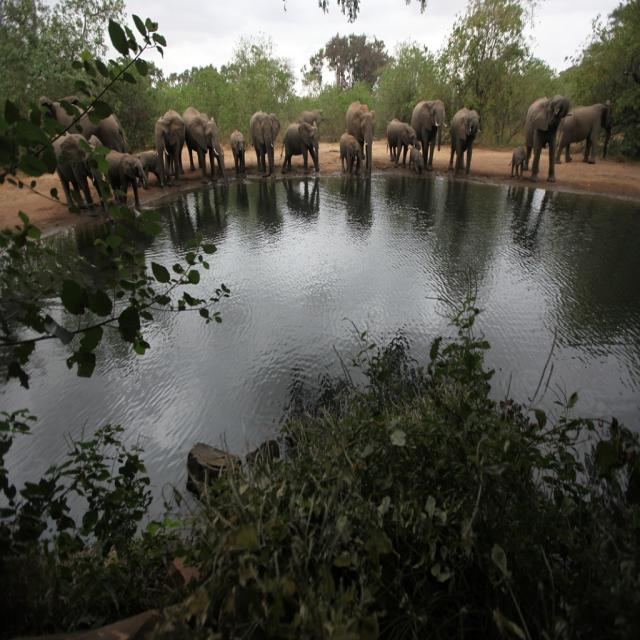elephant: (31, 80, 123, 154), (557, 98, 617, 167), (523, 96, 570, 184), (54, 136, 108, 211), (180, 106, 227, 182), (344, 100, 381, 179), (105, 150, 150, 214), (248, 105, 282, 174), (411, 98, 444, 169), (153, 110, 185, 180), (282, 123, 325, 174), (449, 104, 480, 173), (332, 127, 364, 178), (385, 114, 415, 162), (131, 150, 162, 186), (228, 125, 246, 171), (408, 147, 430, 179), (509, 140, 529, 174), (298, 108, 323, 130)
